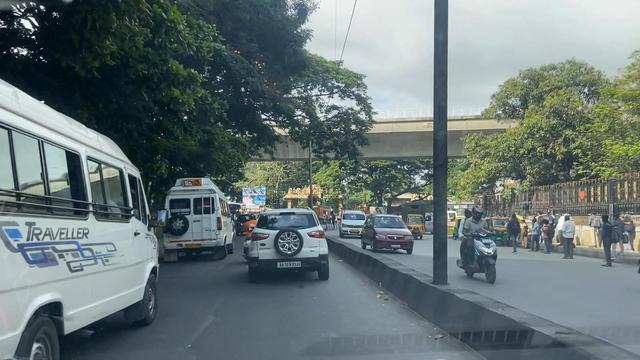HMV: (3, 74, 162, 351), (168, 184, 234, 258)
LMV: (257, 219, 322, 279)
